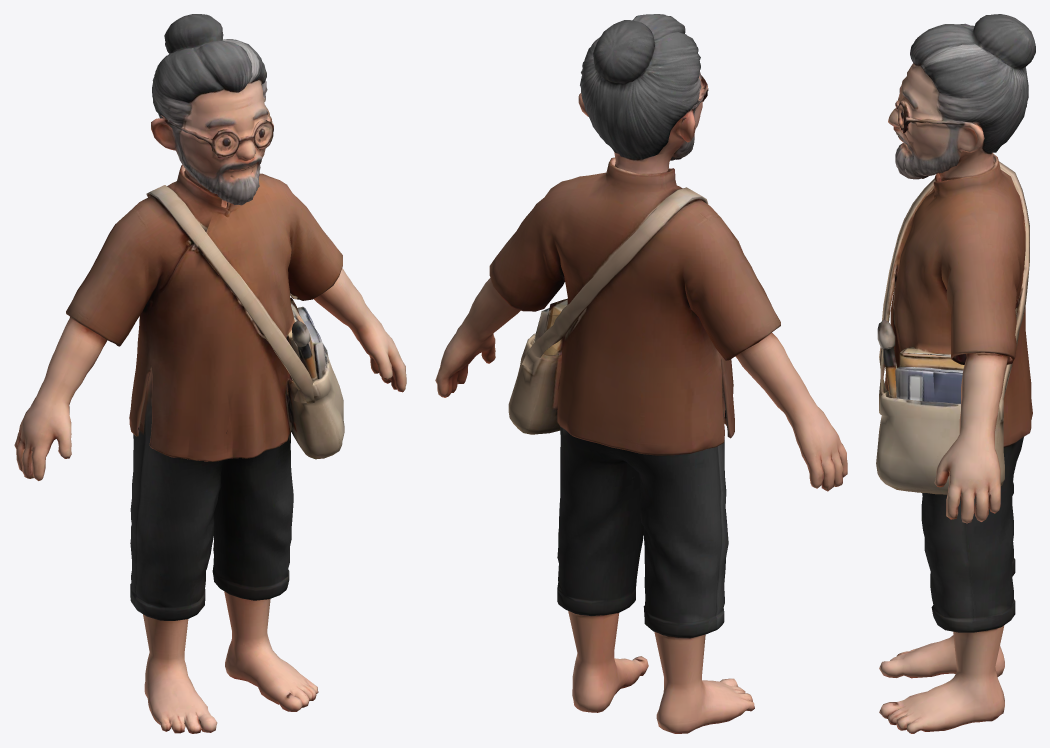
The model's file is thay-linh.3578dcd3.glb.
3 views of the same model, side by side, from view 1: azimuth 30°, elevation 25°; view 2: azimuth 150°, elevation 25°; view 3: azimuth 270°, elevation 25° (orthographic). The views are drawn at different scales.
Visible parts, largest first — view 1: tripo_node_e8f0bc3e-c92e-4288-9561-90099d617f7b; view 2: tripo_node_e8f0bc3e-c92e-4288-9561-90099d617f7b; view 3: tripo_node_e8f0bc3e-c92e-4288-9561-90099d617f7b.
Part boxes in pixels (<box>): tripo_node_e8f0bc3e-c92e-4288-9561-90099d617f7b: <box>14,14,406,733</box>; tripo_node_e8f0bc3e-c92e-4288-9561-90099d617f7b: <box>435,14,847,733</box>; tripo_node_e8f0bc3e-c92e-4288-9561-90099d617f7b: <box>876,14,1035,733</box>.
Bounding box in the file's own units: 0.5835 × 0.9775 × 0.2085.
1 material, 1 textured.
